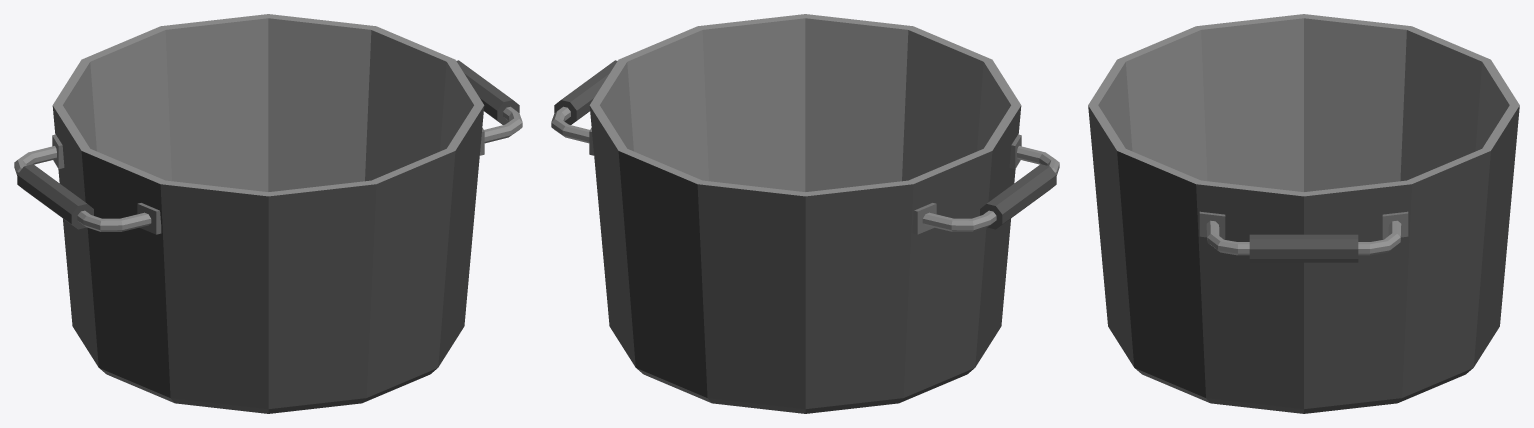
The model's file is Pan_04_C2.fbx.
The picture shows the model from 3 angles, left to right: view 1: azimuth 30°, elevation 25°; view 2: azimuth 150°, elevation 25°; view 3: azimuth 270°, elevation 25°; orthographic projection.
Visible parts, largest first — view 1: Pan_04_C2; view 2: Pan_04_C2; view 3: Pan_04_C2.
Boxes of the visible parts, x1,y1,x2,y2 form: Pan_04_C2: [14, 14, 522, 413]; Pan_04_C2: [551, 14, 1059, 413]; Pan_04_C2: [1088, 14, 1519, 413].
Bounding box in the file's own units: 22 × 10.78 × 18.36.
